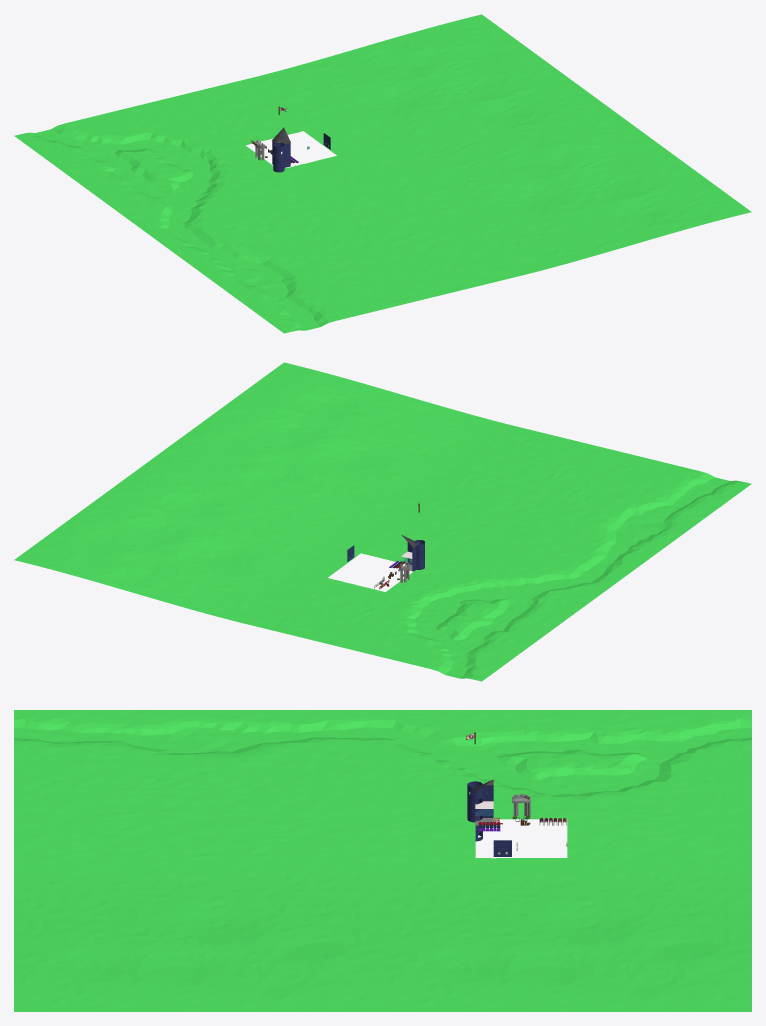
The model's file is testcastle.glb.
The picture shows the model from 3 angles, top to bottom: view 1: azimuth 30°, elevation 25°; view 2: azimuth 150°, elevation 25°; view 3: azimuth 270°, elevation 25°; orthographic projection. The views are drawn at different scales.
Visible parts, largest first — view 1: MT_River_End_L_d_01.001, MT_River_End_L_d_01, MT_River_L_a_02, MT_River_L_a_04_R; view 2: MT_River_End_L_d_01.001, MT_River_End_L_d_01, MT_River_L_a_02, MT_River_L_a_04_R; view 3: MT_River_L_a_02, MT_River_End_L_d_01, MT_River_End_L_d_01.001, MT_River_L_a_04_R.
Part boxes in pixels (x1,y1,x2,y2): MT_River_End_L_d_01.001: (383, 113, 751, 276); MT_River_End_L_d_01: (248, 14, 616, 177); MT_River_L_a_02: (149, 177, 517, 333); MT_River_L_a_04_R: (14, 79, 382, 234); MT_River_End_L_d_01.001: (149, 362, 517, 525); MT_River_End_L_d_01: (14, 461, 382, 624); MT_River_L_a_02: (383, 427, 751, 582); MT_River_L_a_04_R: (248, 525, 616, 681); MT_River_L_a_02: (14, 710, 382, 865); MT_River_End_L_d_01: (383, 866, 751, 1011); MT_River_End_L_d_01.001: (14, 866, 382, 1011); MT_River_L_a_04_R: (383, 710, 751, 865).
Size of what is drawn, in the model's own units: 400 by 63.25 by 400.
41 materials, 20 textured.
